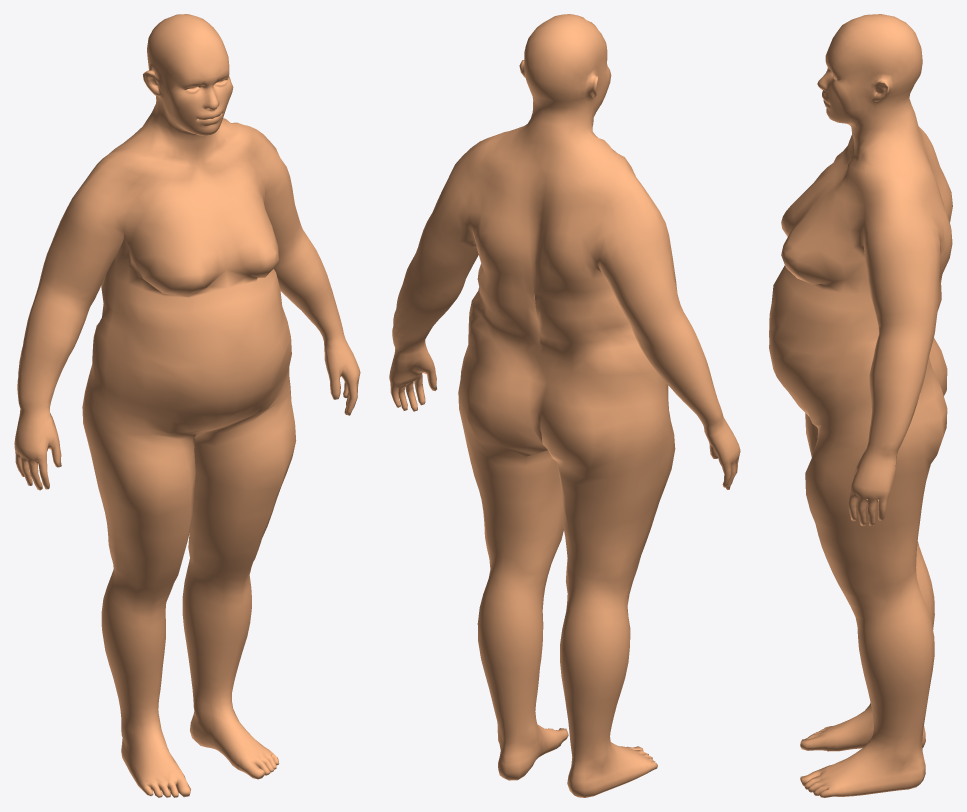
The model's file is waistmax.obj.
3 renders of one model, left to right at view 1: azimuth 30°, elevation 25°; view 2: azimuth 150°, elevation 25°; view 3: azimuth 270°, elevation 25°, orthographic.
Visible parts, largest first — view 1: waistmax_Realistic_White_Female_Low_Poly.003; view 2: waistmax_Realistic_White_Female_Low_Poly.003; view 3: waistmax_Realistic_White_Female_Low_Poly.003.
Part boxes in pixels (bbox=[...]): waistmax_Realistic_White_Female_Low_Poly.003: bbox=[14, 14, 360, 797]; waistmax_Realistic_White_Female_Low_Poly.003: bbox=[389, 14, 740, 797]; waistmax_Realistic_White_Female_Low_Poly.003: bbox=[769, 14, 952, 797].
Size of the model in its own units: 0.787 by 1.66 by 0.3676.
